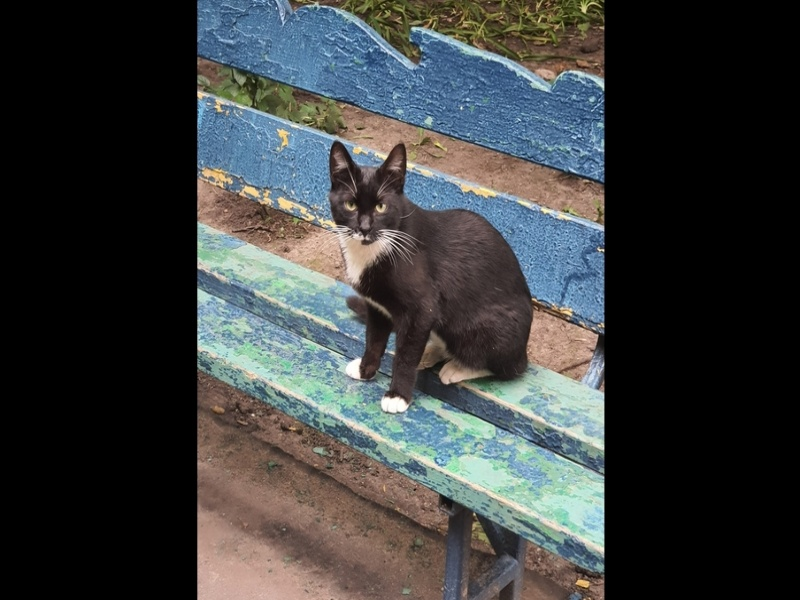cat: (326, 138, 533, 409)
